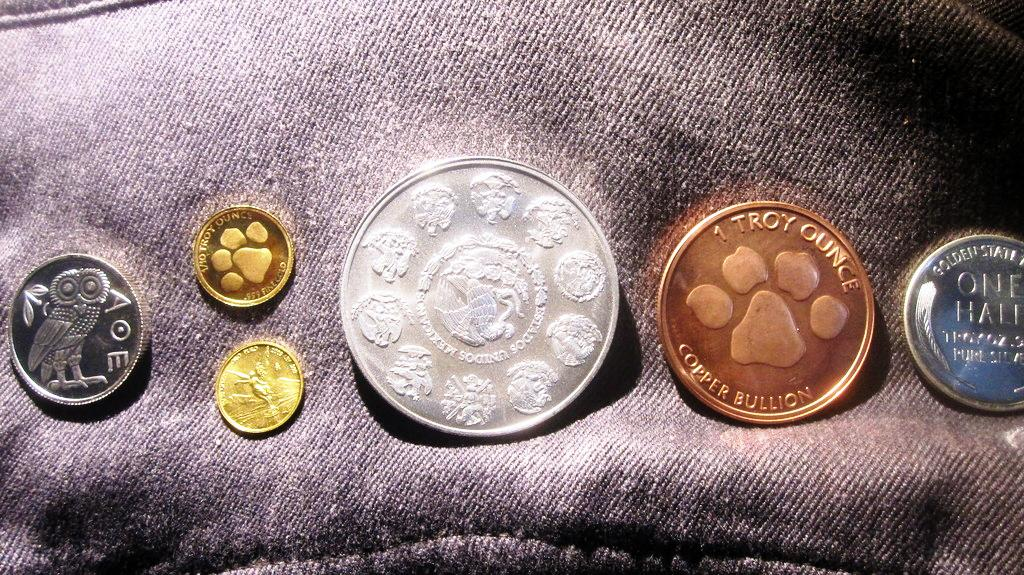Owl: (25, 270, 107, 390)
